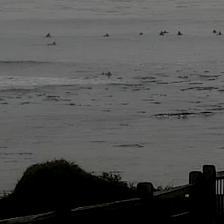surfer: (103, 71, 112, 77), (47, 41, 57, 46), (46, 33, 52, 38), (176, 31, 182, 36), (103, 33, 110, 37), (161, 30, 169, 33), (159, 31, 164, 35), (139, 31, 143, 35), (212, 29, 216, 33), (218, 31, 222, 35)
